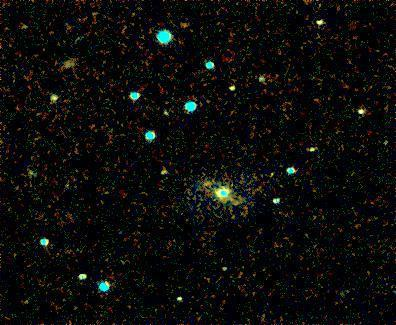star: (191, 164, 221, 194)
